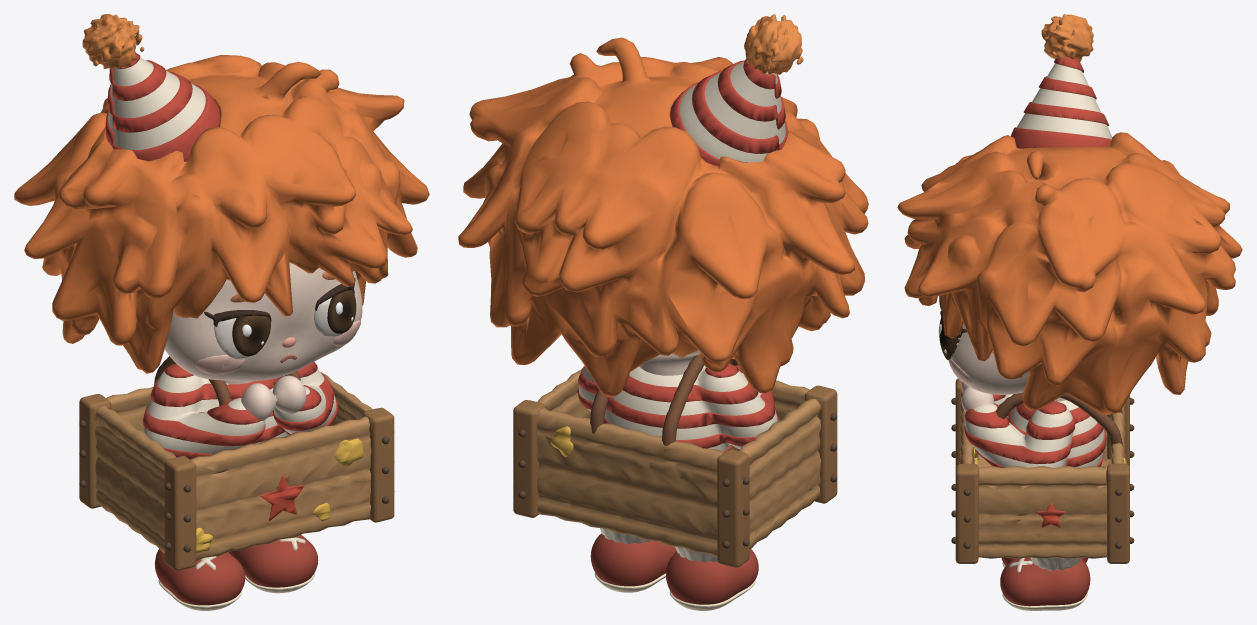
File: crate_spark_roblox.glb
The picture shows the model from 3 angles, left to right: view 1: azimuth 30°, elevation 25°; view 2: azimuth 150°, elevation 25°; view 3: azimuth 270°, elevation 25°; orthographic projection. The views are drawn at different scales.
Parts seen in each view (by area): view 1: CrateSpark_Hair, CrateSpark_Crate, CrateSpark_Head, CrateSpark_CratePosts, CrateSpark_Shoes, CrateSpark_ShirtStripes, CrateSpark_Shirt, CrateSpark_HatStripes, CrateSpark_Hat, CrateSpark_Pompom, CrateSpark_Iris, CrateSpark_Hands (+8 smaller); view 2: CrateSpark_Hair, CrateSpark_Crate, CrateSpark_CratePosts, CrateSpark_Shoes, CrateSpark_ShirtStripes, CrateSpark_Shirt, CrateSpark_HatStripes, CrateSpark_Hat, CrateSpark_Pompom, CrateSpark_Straps, CrateSpark_Head, CrateSpark_Soles (+2 smaller); view 3: CrateSpark_Hair, CrateSpark_Crate, CrateSpark_CratePosts, CrateSpark_ShirtStripes, CrateSpark_Shirt, CrateSpark_Shoes, CrateSpark_HatStripes, CrateSpark_Hat, CrateSpark_Head, CrateSpark_Pompom, CrateSpark_Straps, CrateSpark_Nails (+2 smaller).
Boxes of the visible parts, x1,y1,x2,y2 form: CrateSpark_Hair: (14, 55, 429, 373); CrateSpark_Crate: (95, 372, 372, 561); CrateSpark_Head: (164, 262, 362, 384); CrateSpark_CratePosts: (79, 393, 394, 570); CrateSpark_Shoes: (155, 535, 318, 605); CrateSpark_ShirtStripes: (142, 362, 337, 459); CrateSpark_Shirt: (143, 369, 336, 453); CrateSpark_HatStripes: (105, 53, 220, 161); CrateSpark_Hat: (108, 58, 205, 149); CrateSpark_Pompom: (82, 14, 144, 68); CrateSpark_Iris: (232, 289, 356, 356); CrateSpark_Hands: (241, 375, 306, 420); CrateSpark_Hair: (458, 37, 868, 397); CrateSpark_Crate: (537, 366, 821, 557); CrateSpark_CratePosts: (513, 385, 837, 567); CrateSpark_Shoes: (590, 533, 758, 604); CrateSpark_ShirtStripes: (577, 363, 778, 452); CrateSpark_Shirt: (578, 365, 777, 451); CrateSpark_HatStripes: (670, 58, 788, 165); CrateSpark_Hat: (679, 61, 785, 162); CrateSpark_Pompom: (744, 14, 803, 74); CrateSpark_Straps: (590, 354, 738, 450); CrateSpark_Head: (639, 350, 700, 375); CrateSpark_Soles: (594, 573, 755, 610); CrateSpark_Hair: (897, 132, 1242, 414); CrateSpark_Crate: (960, 391, 1125, 558); CrateSpark_CratePosts: (955, 378, 1129, 563); CrateSpark_ShirtStripes: (964, 394, 1105, 467); CrateSpark_Shirt: (965, 394, 1104, 467); CrateSpark_Shoes: (1000, 557, 1090, 606); CrateSpark_HatStripes: (1011, 56, 1111, 148); CrateSpark_Hat: (1017, 63, 1112, 139); CrateSpark_Head: (951, 323, 1065, 401); CrateSpark_Pompom: (1041, 14, 1093, 61); CrateSpark_Straps: (996, 392, 1123, 447); CrateSpark_Nails: (951, 397, 1134, 548).
Size of the model in its own units: 2.36 by 3.57 by 2.12.
Materials: 22 (22 with a texture image).
